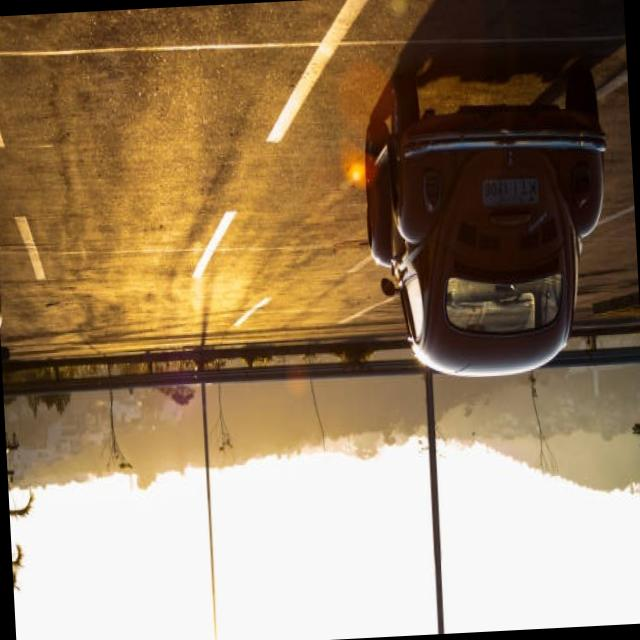car: (357, 70, 627, 386)
